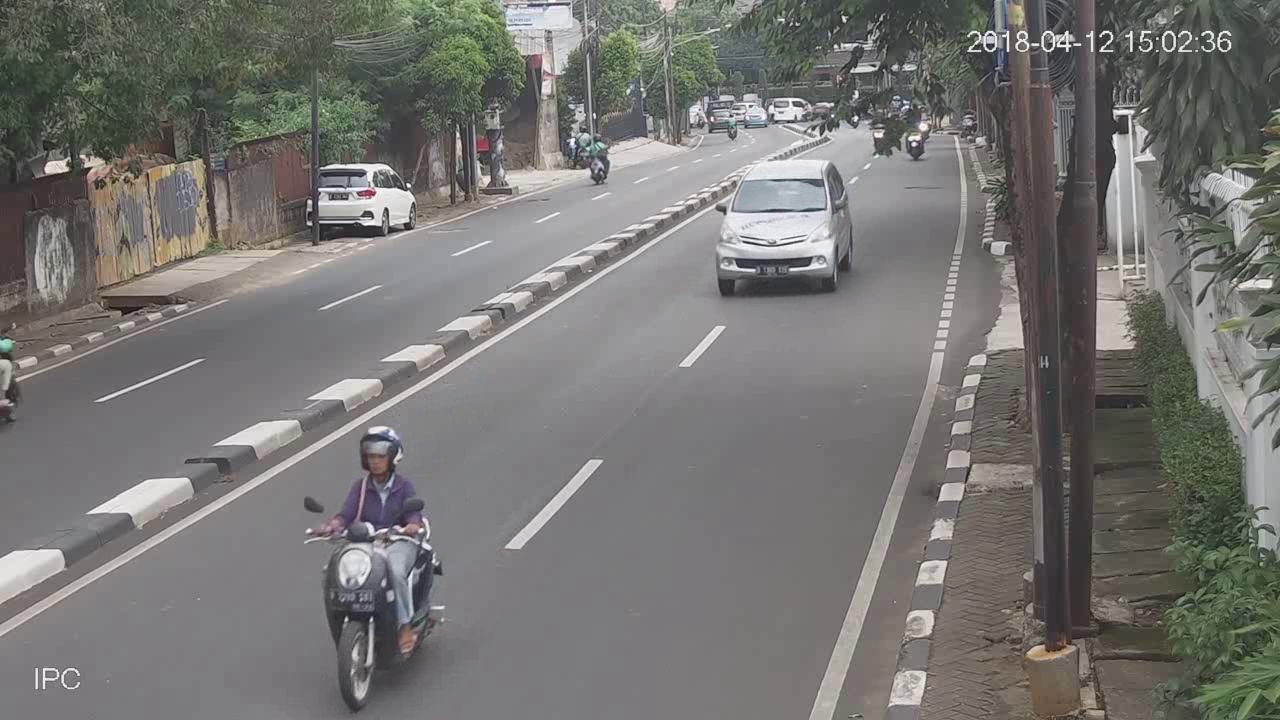car: (716, 158, 855, 294), (305, 160, 419, 236)
motorcycle: (302, 424, 450, 708), (588, 134, 611, 183)
